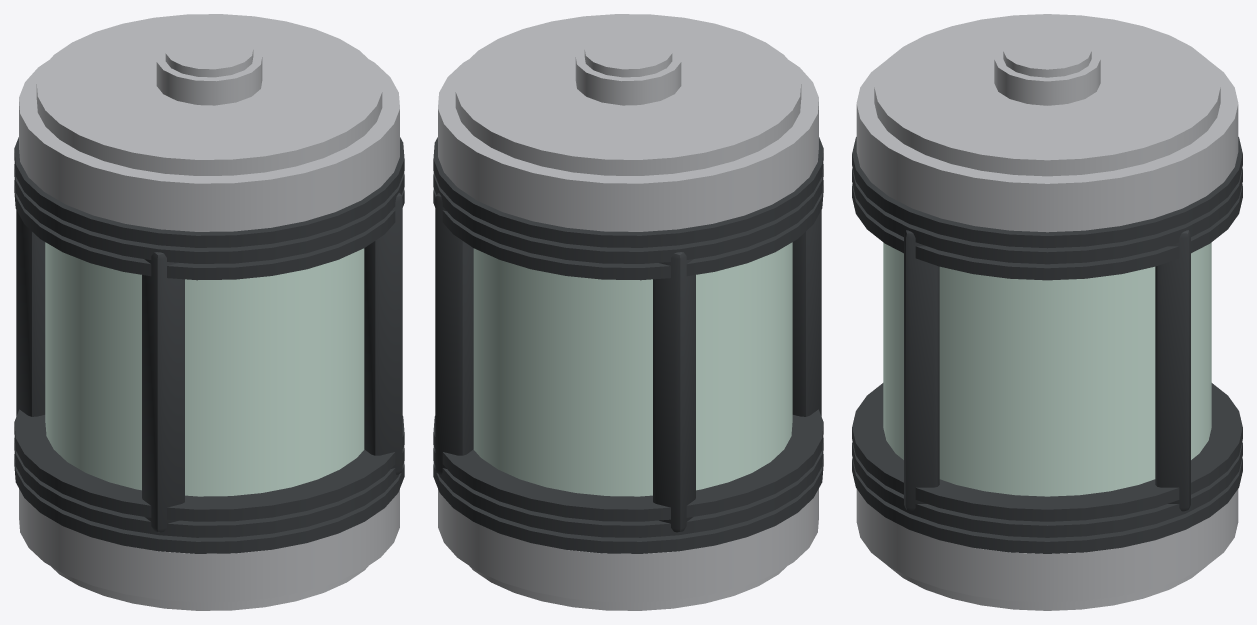
The model's file is cell.glb.
The picture shows the model from 3 angles, left to right: view 1: azimuth 30°, elevation 25°; view 2: azimuth 150°, elevation 25°; view 3: azimuth 270°, elevation 25°; orthographic projection.
Visible parts, largest first — view 1: cell_body, window; view 2: cell_body, window; view 3: cell_body, window.
Part boxes in pixels (box(x1,y1,x2,y2)): cell_body: box(14, 14, 404, 610); window: box(45, 242, 364, 496); cell_body: box(433, 14, 823, 610); window: box(473, 242, 792, 496); cell_body: box(852, 14, 1242, 610); window: box(883, 242, 1211, 496).
Size of the model in its own units: 0.088 by 0.121 by 0.088.
